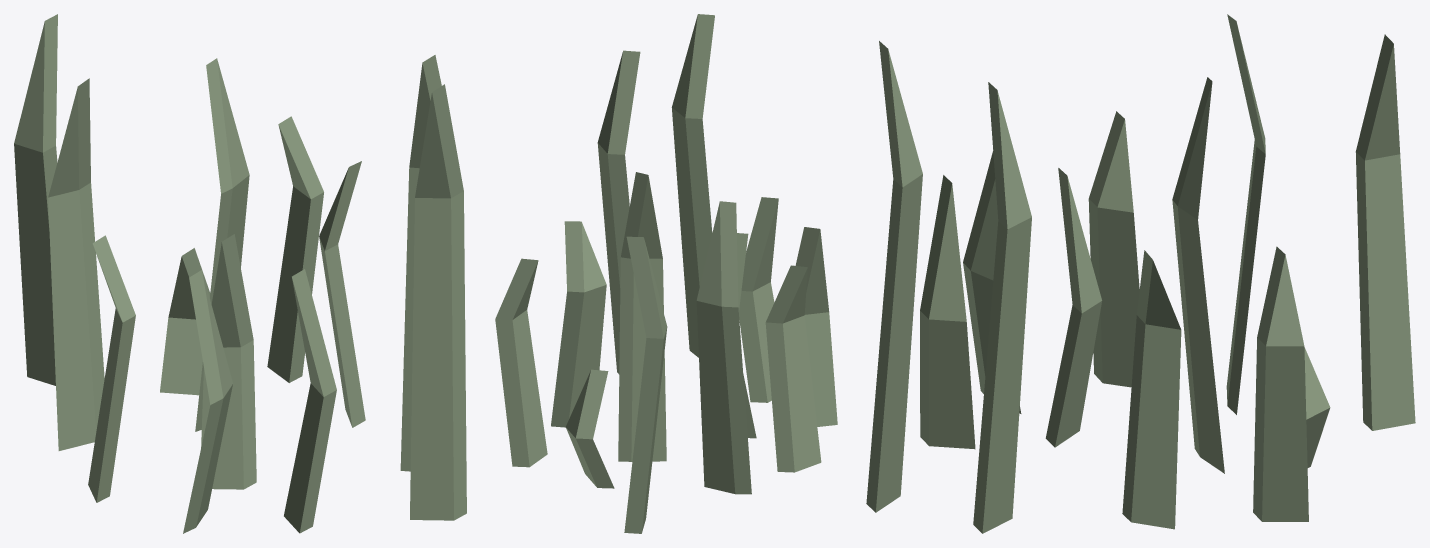
The model's file is model_grass-short.glb.
The picture shows the model from 3 angles, left to right: view 1: azimuth 30°, elevation 25°; view 2: azimuth 150°, elevation 25°; view 3: azimuth 270°, elevation 25°; orthographic projection. The views are drawn at different scales.
Visible parts, largest first — view 1: Grass_Short; view 2: Grass_Short; view 3: Grass_Short.
Boxes of the visible parts, x1,y1,x2,y2 form: Grass_Short: (14,14,466,533); Grass_Short: (495,14,837,533); Grass_Short: (866,14,1415,533).
Size of the model in its own units: 0.3162 by 0.4046 by 0.4417.
